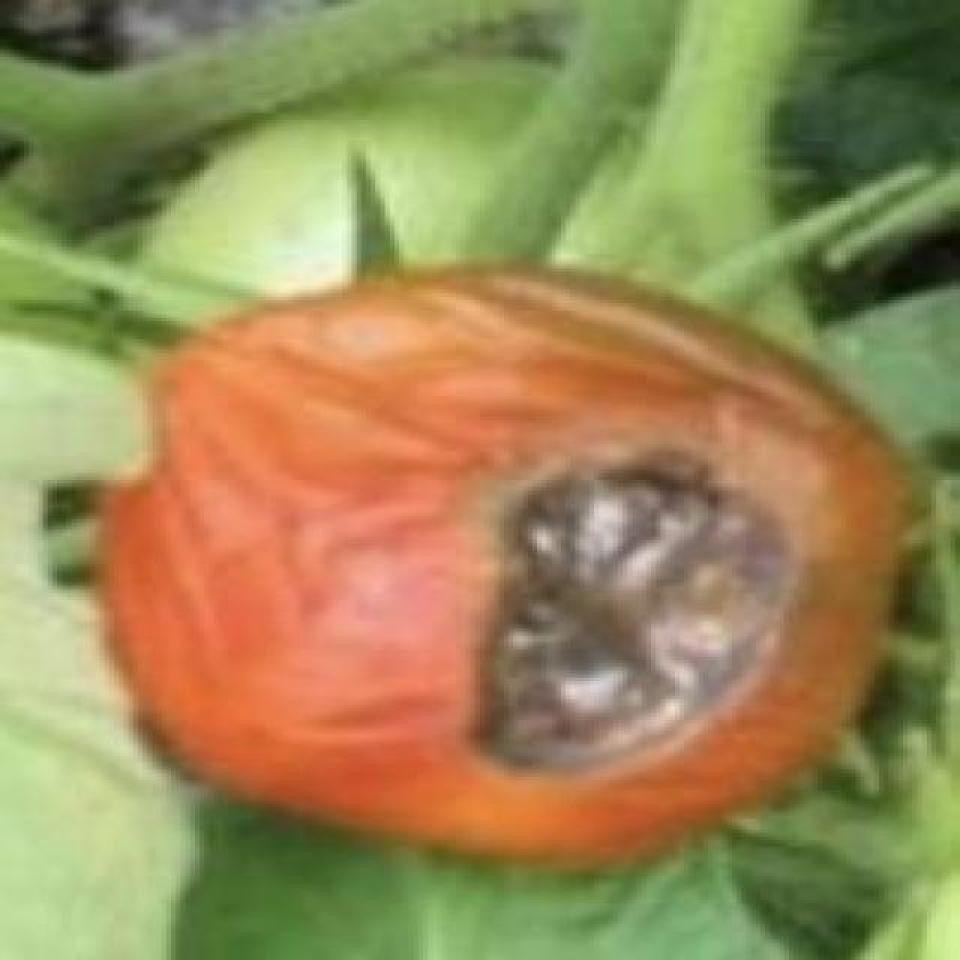Sunscald: (446, 438, 799, 798)
